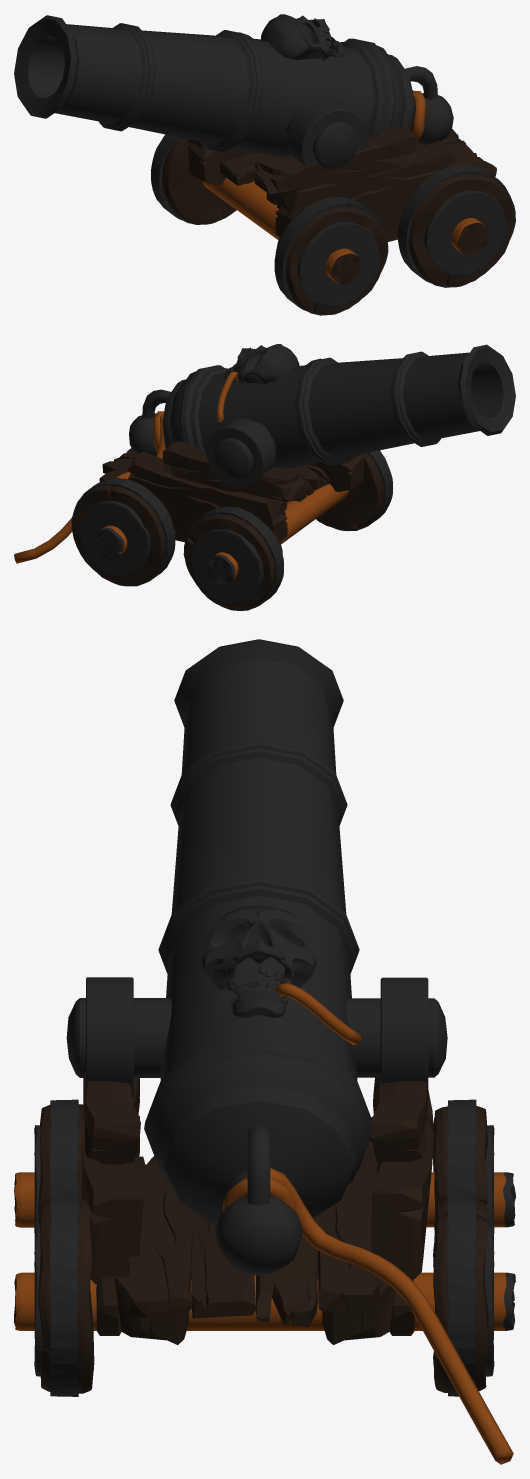
Rendered from SM_Canon.FBX.
The picture shows the model from 3 angles, top to bottom: view 1: azimuth 30°, elevation 25°; view 2: azimuth 150°, elevation 25°; view 3: azimuth 270°, elevation 25°; orthographic projection. The views are drawn at different scales.
Visible parts, largest first — view 1: Canon; view 2: Canon; view 3: Canon.
Boxes of the visible parts, x1,y1,x2,y2 form: Canon: [14, 14, 515, 315]; Canon: [14, 344, 515, 610]; Canon: [14, 639, 515, 1464].
Bounding box in the file's own units: 473 × 285 × 267.
